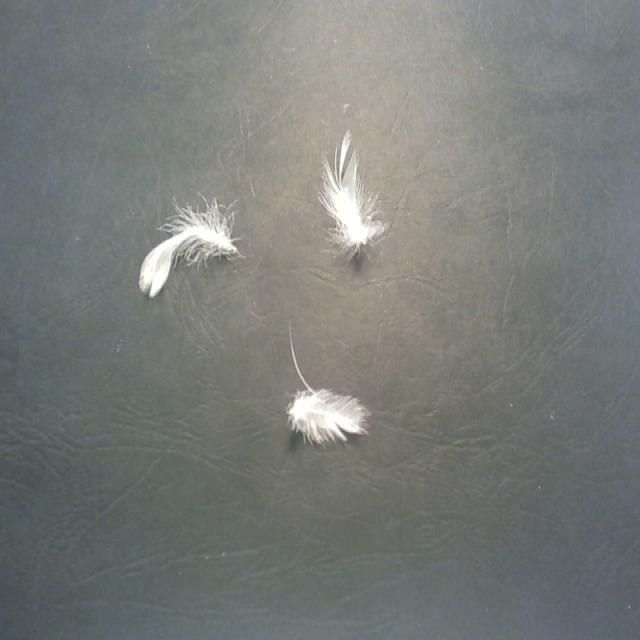feather: (134, 197, 244, 295), (316, 135, 390, 257), (283, 376, 370, 449)
